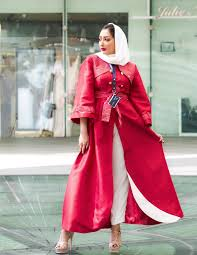middle_eastern_Female: (95, 24, 120, 57)
